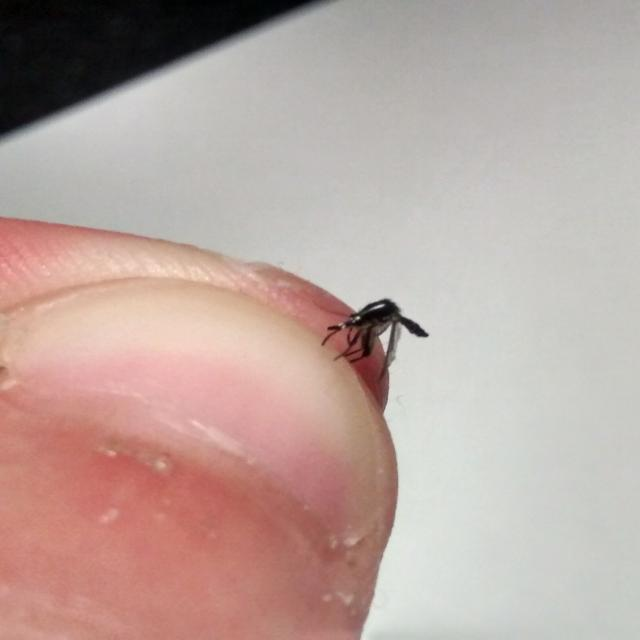albopictus: (314, 290, 432, 372)
